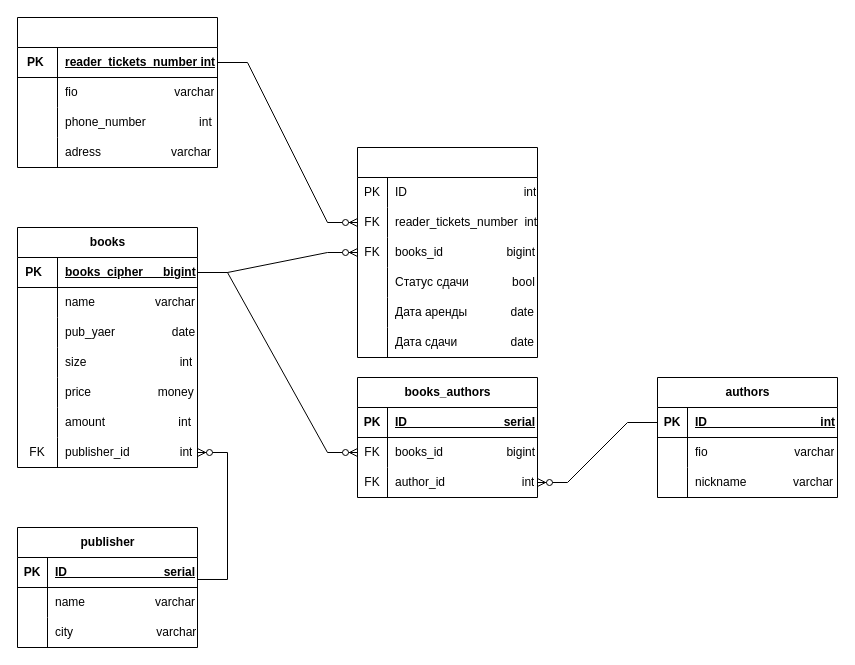
The diagram is 855 pixels wide and 665 high, and some of its shapes have lost their labels. Each missing label, with the box of its shape:
readers: (16, 16, 218, 168)
rented_books: (356, 146, 538, 358)
